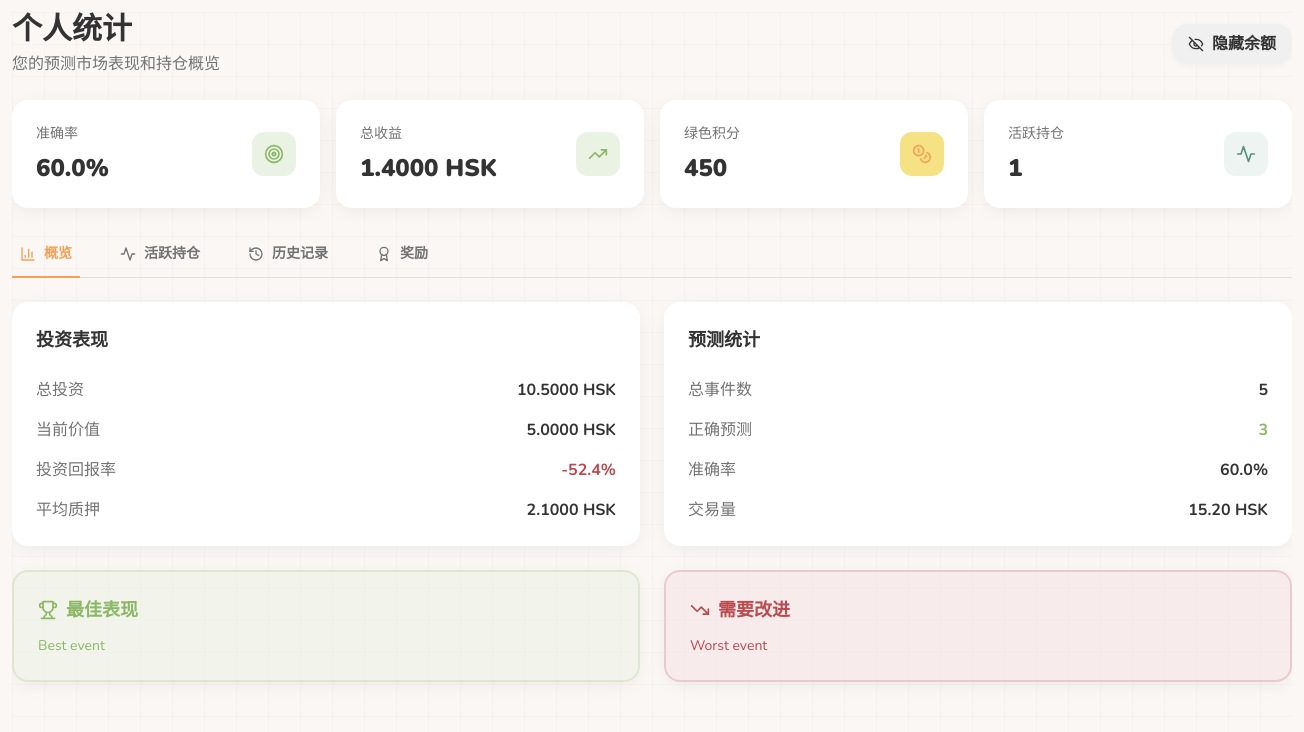
Scenario: UserStats › displays position cards with correct information
Note: Switch to positions tab
Step 1. Click the button "活跃持仓" → (160, 255), box left=112, top=232, right=208, bottom=278
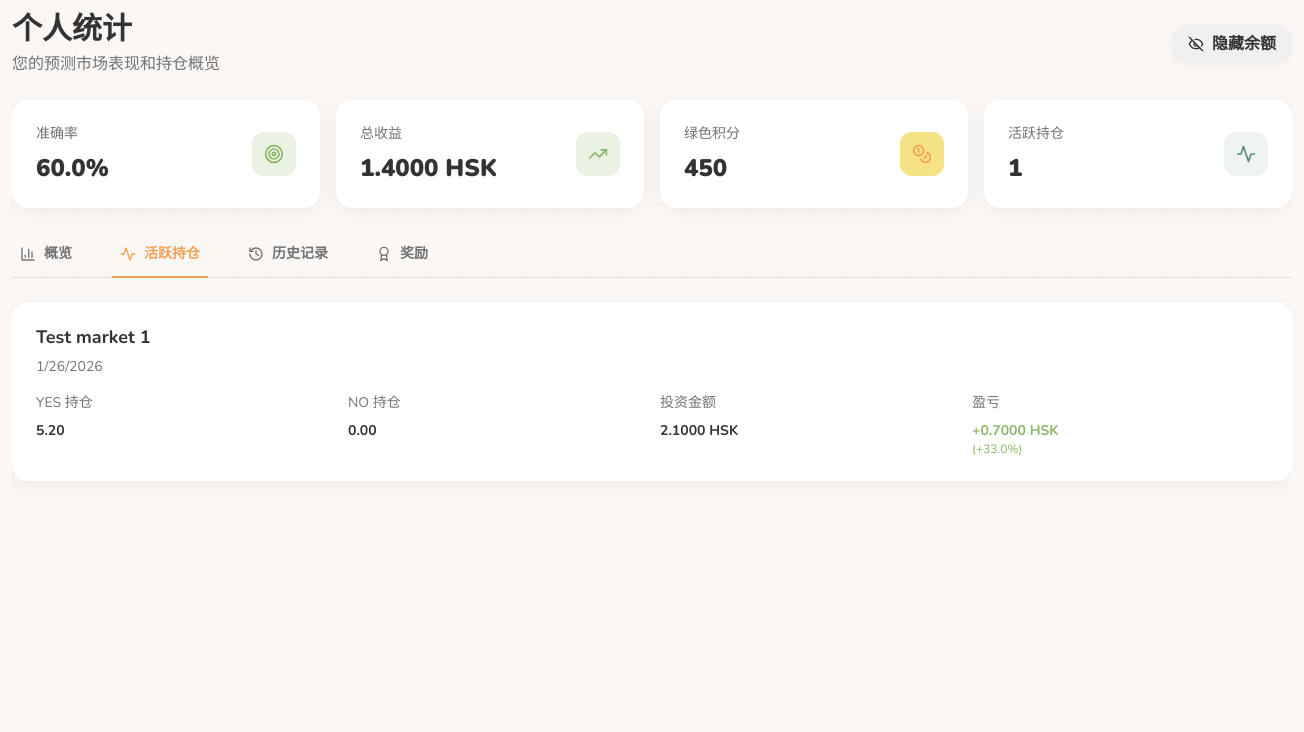
Expected: the text "5.20" is shown, left=36, top=420, right=65, bottom=440
Expected: the heading "Test market 1" is shown, left=36, top=325, right=150, bottom=349
Expected: the text "+0.7000 HSK" is shown, left=972, top=420, right=1059, bottom=456
